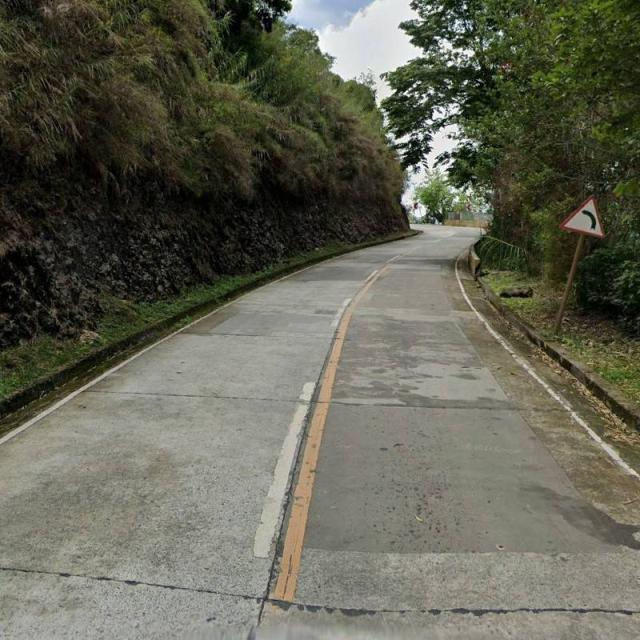warn_left_curve: (559, 195, 605, 238)
